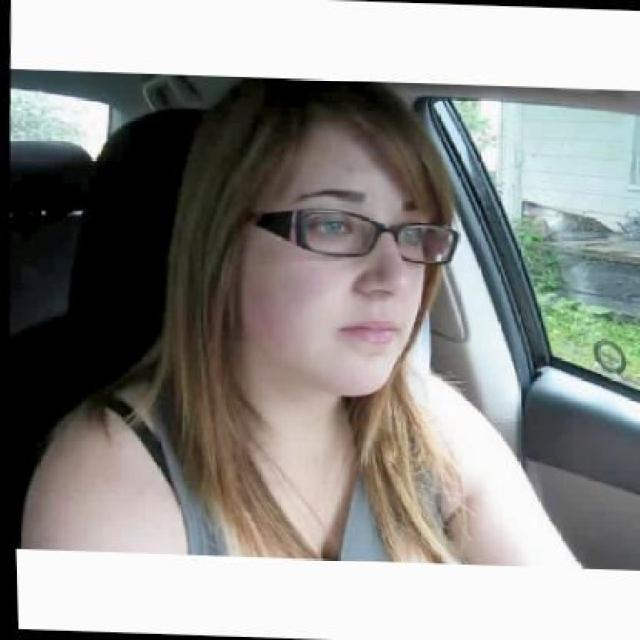attentif: (217, 78, 465, 400)
